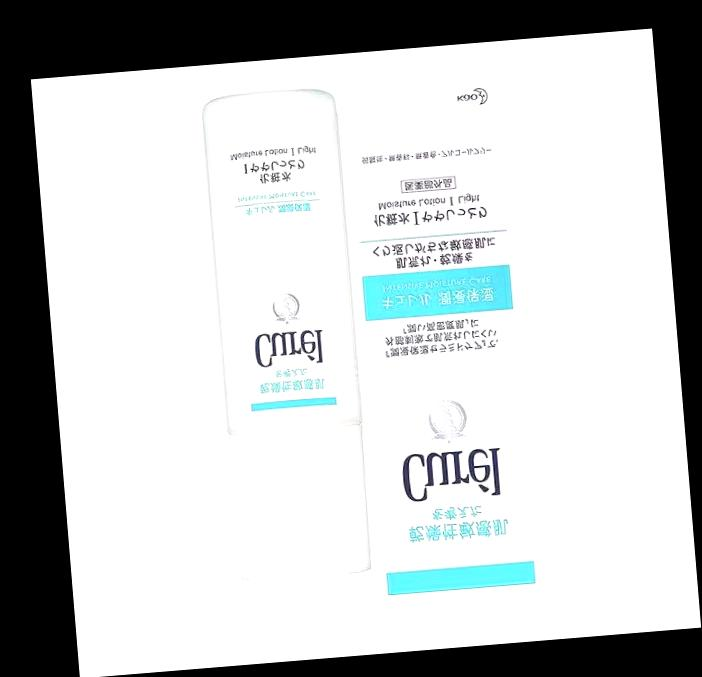cosmetic: (201, 98, 377, 582)
